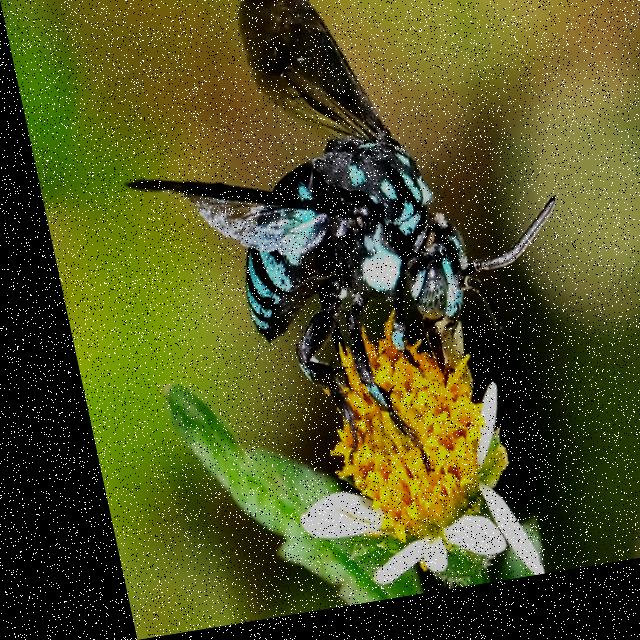Thyreus: (80, 0, 592, 494)
